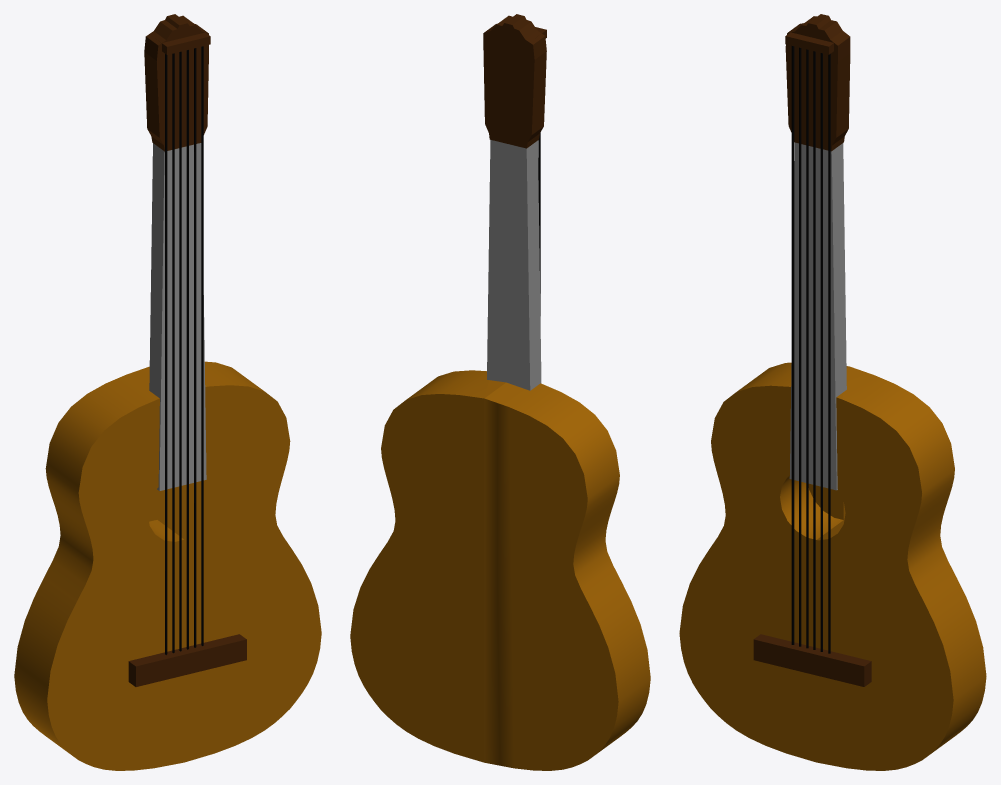
The model's file is Guitar.FBX.
The picture shows the model from 3 angles, left to right: view 1: azimuth 30°, elevation 25°; view 2: azimuth 150°, elevation 25°; view 3: azimuth 330°, elevation 25°; orthographic projection. The views are drawn at different scales.
Visible parts, largest first — view 1: Line001, Box001, Line002, Box002, Cylinder001, Cylinder002, Cylinder003, Cylinder006, Cylinder004, Cylinder005, Box003; view 2: Line001, Box001, Line002; view 3: Line001, Box001, Line002, Box002, Cylinder001, Cylinder003, Cylinder006, Cylinder002, Cylinder004, Cylinder005, Box003.
Part boxes in pixels (x1,y1,x2,y2): Line001: [14, 361, 321, 770]; Box001: [149, 143, 206, 490]; Line002: [144, 14, 208, 151]; Box002: [128, 634, 246, 686]; Cylinder001: [165, 54, 167, 654]; Cylinder002: [172, 53, 174, 653]; Cylinder003: [179, 51, 181, 651]; Cylinder006: [201, 46, 203, 645]; Cylinder004: [186, 50, 188, 649]; Cylinder005: [194, 48, 196, 647]; Box003: [155, 32, 210, 54]; Line001: [350, 370, 650, 770]; Box001: [487, 140, 541, 390]; Line002: [483, 14, 546, 148]; Line001: [679, 362, 986, 770]; Box001: [789, 142, 846, 490]; Line002: [785, 14, 850, 151]; Box002: [753, 634, 871, 686]; Cylinder001: [791, 46, 794, 644]; Cylinder003: [806, 49, 808, 648]; Cylinder006: [828, 54, 830, 653]; Cylinder002: [799, 47, 801, 646]; Cylinder004: [813, 51, 815, 649]; Cylinder005: [820, 53, 822, 651]; Box003: [785, 27, 833, 54].
Size of the model in its own units: 715 by 1842 by 181.
